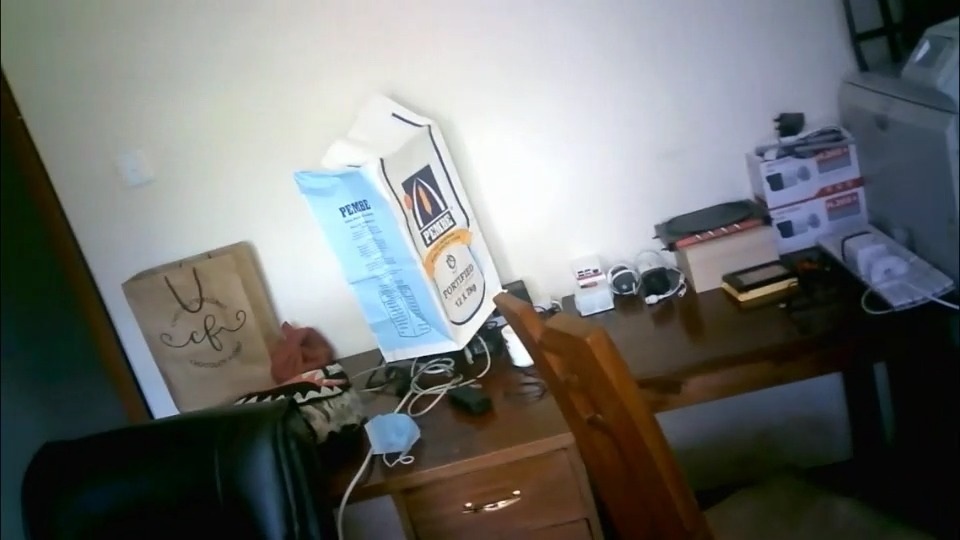wheat_flour_blue_label: (294, 92, 505, 358)
